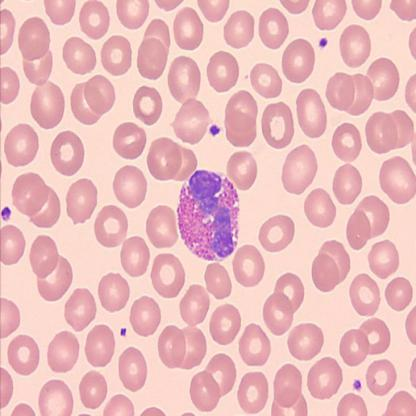Eosinophil: (177, 170, 240, 260)
